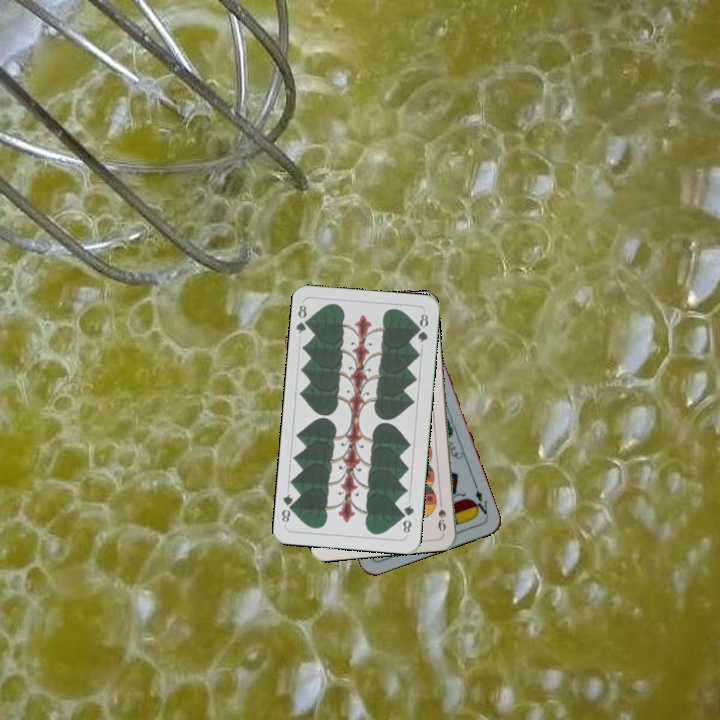EA: (468, 480, 491, 519)
G8: (293, 301, 313, 336), (398, 500, 417, 536)
S9: (434, 494, 449, 534)
